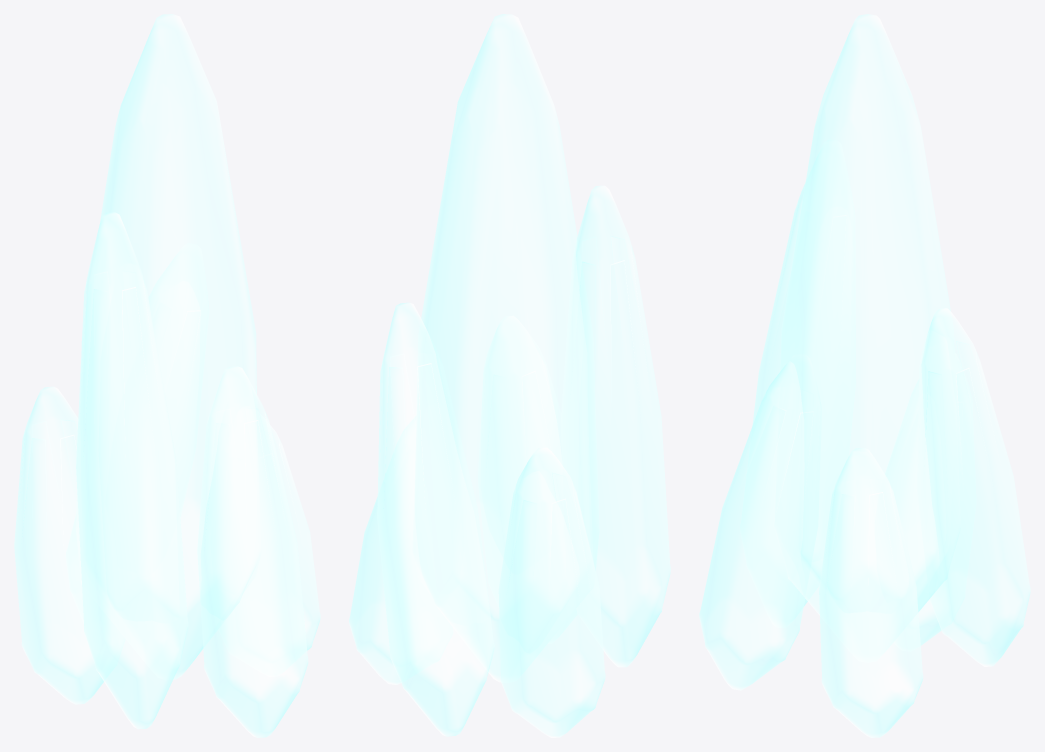
File: material_crystal_blue_v3.glb
The picture shows the model from 3 angles, left to right: view 1: azimuth 30°, elevation 25°; view 2: azimuth 150°, elevation 25°; view 3: azimuth 270°, elevation 25°; orthographic projection. The views are drawn at different scales.
Parts seen in each view (by area): view 1: item_crystal_blue_main, item_crystal_blue_c3, item_crystal_blue_c4, item_crystal_blue_c2, item_crystal_blue_c0, item_crystal_blue_c1; view 2: item_crystal_blue_main, item_crystal_blue_c3, item_crystal_blue_c1, item_crystal_blue_c2, item_crystal_blue_c0, item_crystal_blue_c4; view 3: item_crystal_blue_main, item_crystal_blue_c1, item_crystal_blue_c3, item_crystal_blue_c4, item_crystal_blue_c0, item_crystal_blue_c2.
Boxes of the visible parts, x1,y1,x2,y2 form: item_crystal_blue_main: (76,14,261,679); item_crystal_blue_c3: (76,212,188,729); item_crystal_blue_c4: (197,366,308,737); item_crystal_blue_c2: (14,386,124,704); item_crystal_blue_c0: (219,412,320,676); item_crystal_blue_c1: (66,243,208,622); item_crystal_blue_main: (413,14,599,682); item_crystal_blue_c3: (561,185,670,667); item_crystal_blue_c1: (377,302,494,736); item_crystal_blue_c2: (498,447,605,737); item_crystal_blue_c0: (349,417,452,684); item_crystal_blue_c4: (478,316,576,643); item_crystal_blue_main: (774,14,960,661); item_crystal_blue_c1: (917,308,1030,666); item_crystal_blue_c3: (740,140,855,627); item_crystal_blue_c4: (699,353,821,690); item_crystal_blue_c0: (819,448,923,737); item_crystal_blue_c2: (885,354,975,650).
Size of the model in its own units: 0.1731 by 0.4297 by 0.1938.
